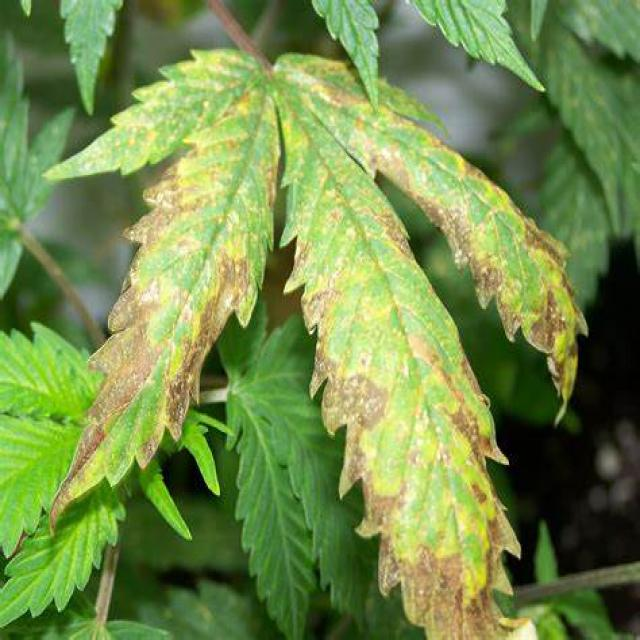blight: (343, 317, 517, 640), (61, 269, 181, 455)
